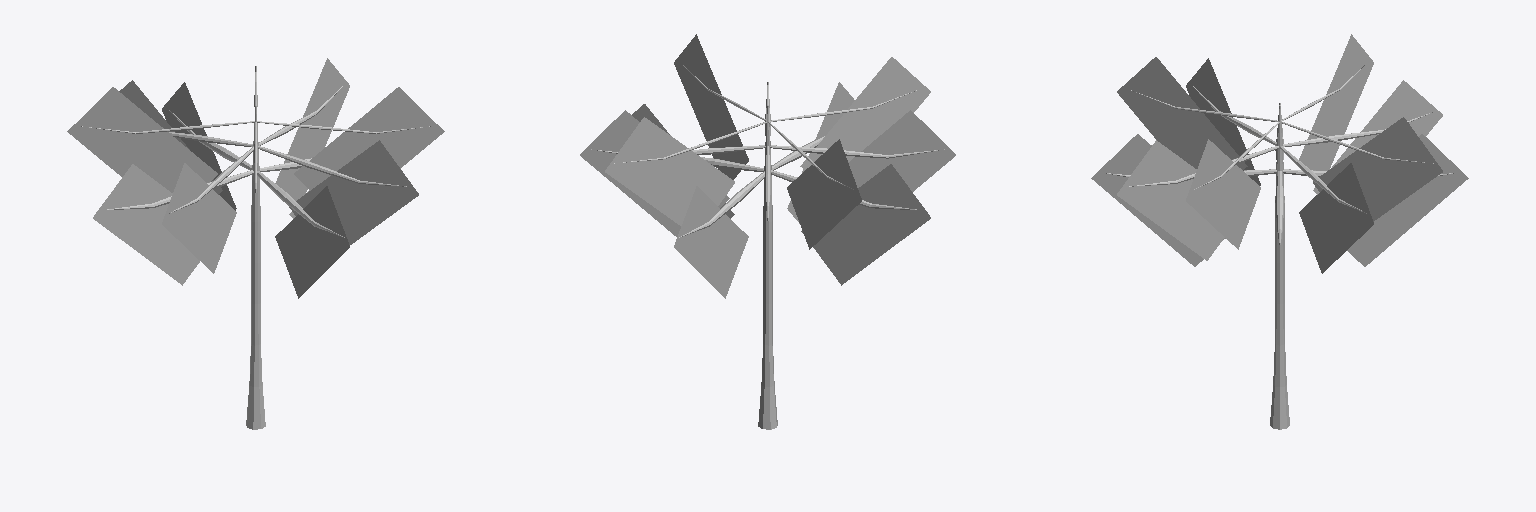
The model's file is great_succ_bb.obj.
The picture shows the model from 3 angles: view 1: azimuth 30°, elevation 25°; view 2: azimuth 150°, elevation 25°; view 3: azimuth 270°, elevation 25°; orthographic projection.
Parts seen in each view (by area): view 1: plant; view 2: plant; view 3: plant.
Part boxes in pixels (x1,y1,x2,y2): plant: (67, 58, 444, 429); plant: (580, 34, 955, 429); plant: (1091, 34, 1468, 429).
Size of the model in its own units: 25.04 by 24.79 by 25.04.